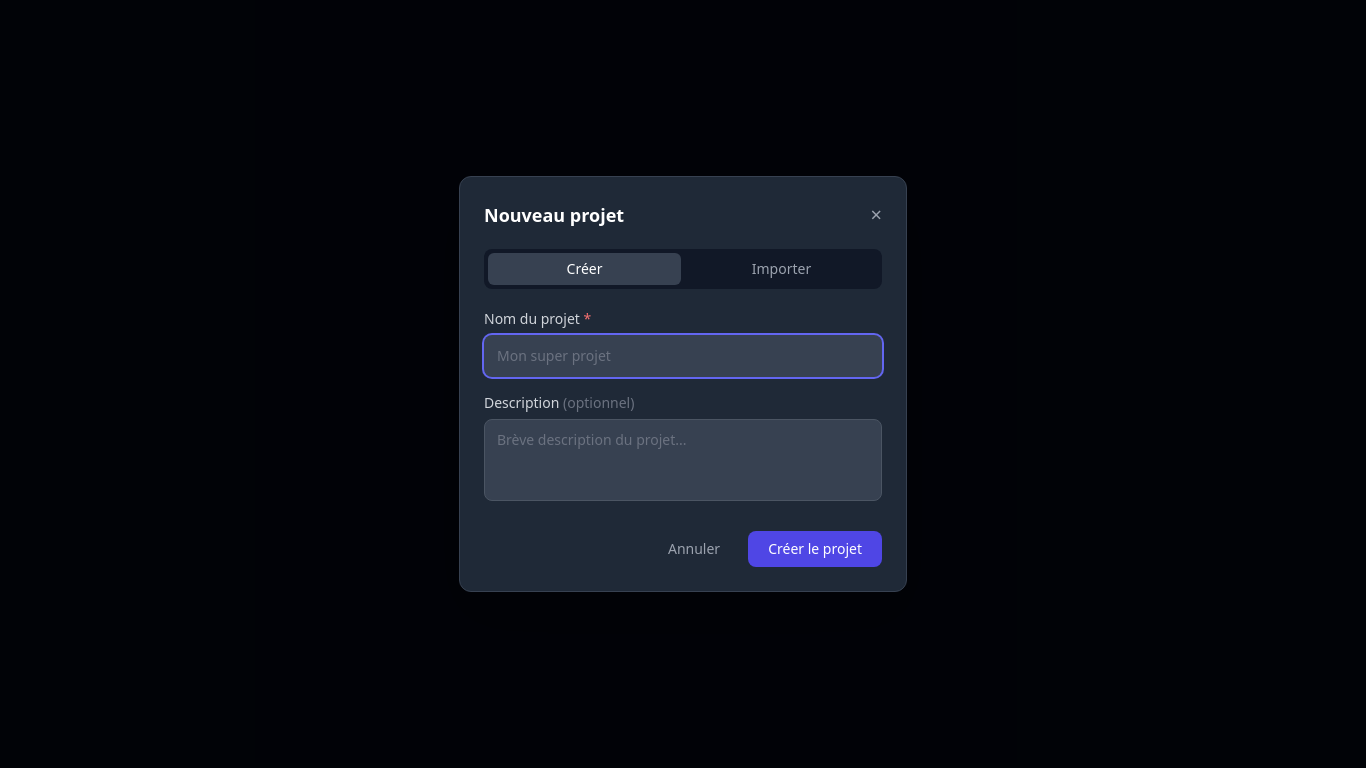
Test: NewProjectModal › shows validation error when submitting empty name
This screenshot has width=1366, height=768.
Click the button "Créer le projet" at (815, 549), box [748, 531, 882, 567]
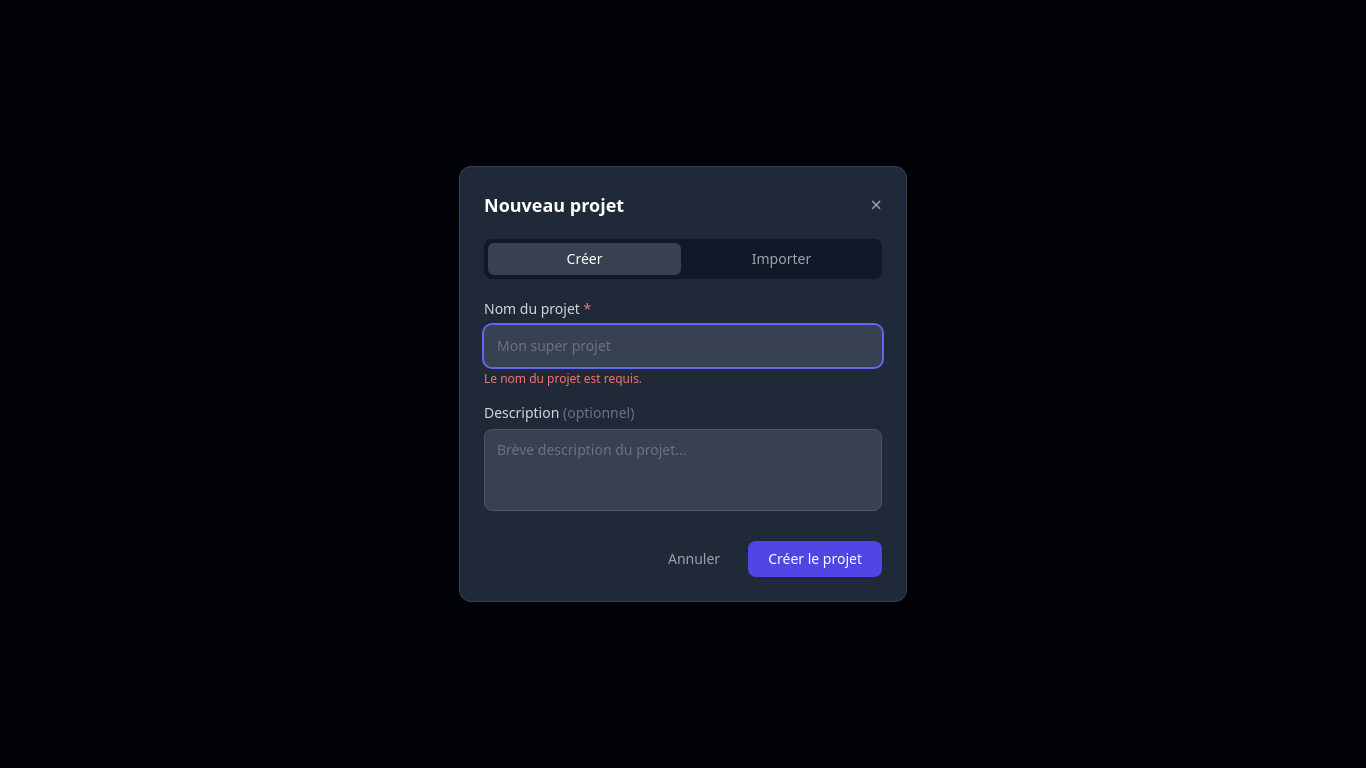
Check: the text "Le nom du projet est requis." is shown, box [484, 370, 642, 387]
